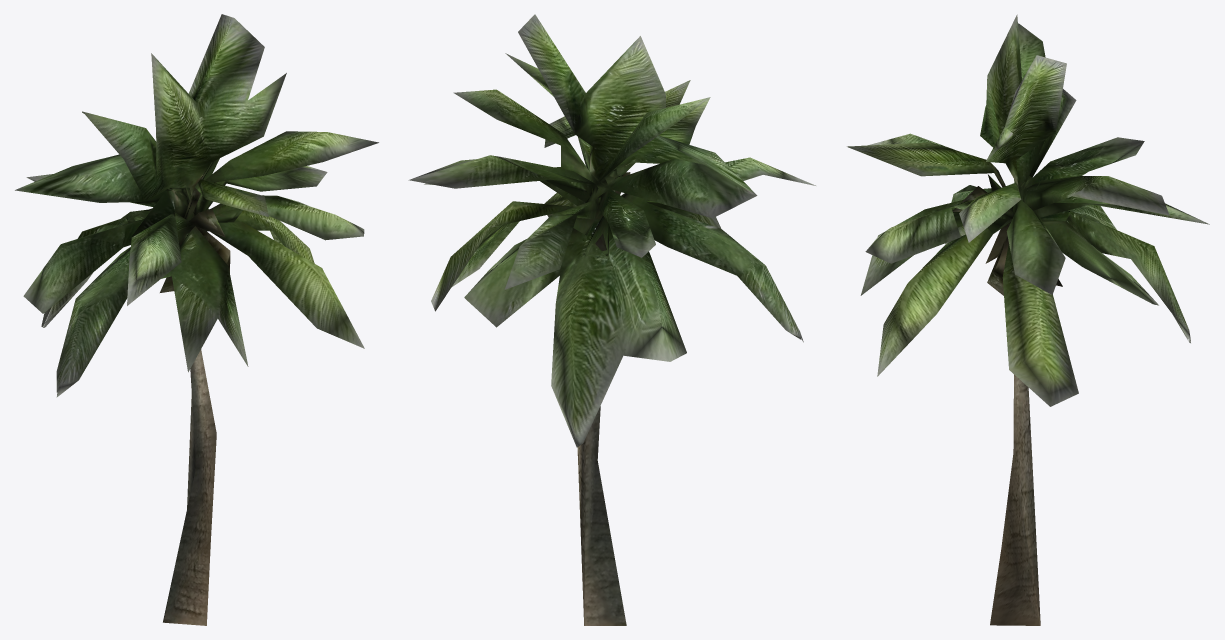
Rendered from cocotier_low.glb.
The picture shows the model from 3 angles, left to right: view 1: azimuth 30°, elevation 25°; view 2: azimuth 150°, elevation 25°; view 3: azimuth 270°, elevation 25°; orthographic projection. The views are drawn at different scales.
Visible parts, largest first — view 1: tripo_node_8ca2c98b-c80c-43f6-80c4-212db7044965; view 2: tripo_node_8ca2c98b-c80c-43f6-80c4-212db7044965; view 3: tripo_node_8ca2c98b-c80c-43f6-80c4-212db7044965.
Boxes of the visible parts, x1,y1,x2,y2 form: tripo_node_8ca2c98b-c80c-43f6-80c4-212db7044965: (15,14,378,625); tripo_node_8ca2c98b-c80c-43f6-80c4-212db7044965: (408,14,815,625); tripo_node_8ca2c98b-c80c-43f6-80c4-212db7044965: (847,14,1209,625).
Bounding box in the file's own units: 0.554 × 0.9246 × 0.513.
1 material, 1 textured.
